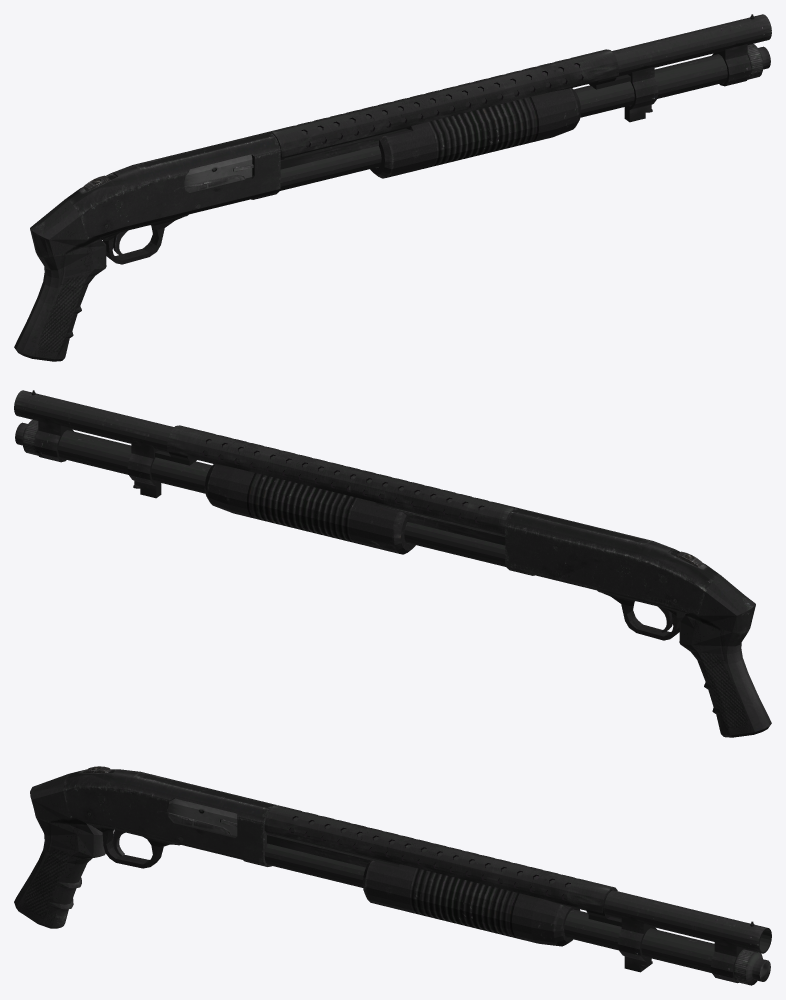
Rendered from Mossberg.obj.
The picture shows the model from 3 angles, top to bottom: view 1: azimuth 30°, elevation 25°; view 2: azimuth 150°, elevation 25°; view 3: azimuth 330°, elevation 25°; orthographic projection.
Visible parts, largest first — view 1: USWeap_Mossberg_Test_Breach_SB_SMesh; view 2: USWeap_Mossberg_Test_Breach_SB_SMesh; view 3: USWeap_Mossberg_Test_Breach_SB_SMesh.
Boxes of the visible parts, x1,y1,x2,y2 form: USWeap_Mossberg_Test_Breach_SB_SMesh: (14, 14, 771, 361); USWeap_Mossberg_Test_Breach_SB_SMesh: (14, 390, 771, 737); USWeap_Mossberg_Test_Breach_SB_SMesh: (14, 766, 771, 985).
Size of the model in its own units: 40.45 by 8.96 by 2.55.
